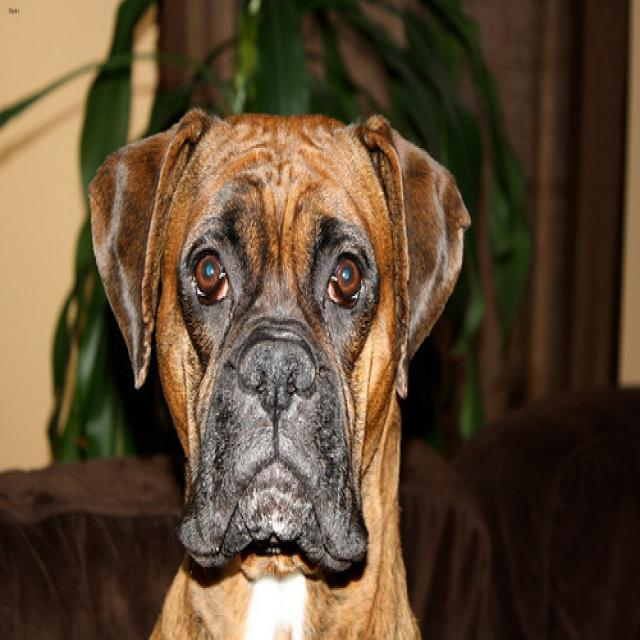dog-boxer: (79, 98, 477, 636)
